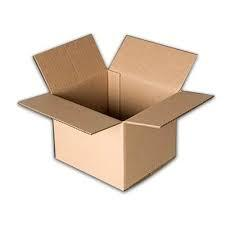Cardboard: (14, 21, 224, 193)
